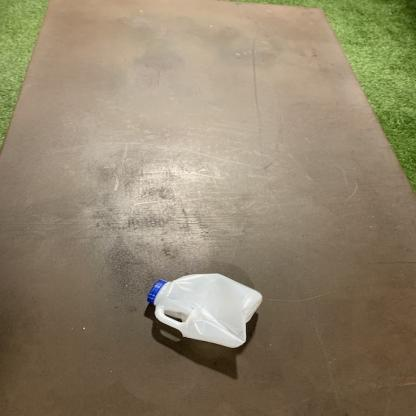trash: (147, 272, 266, 349)
